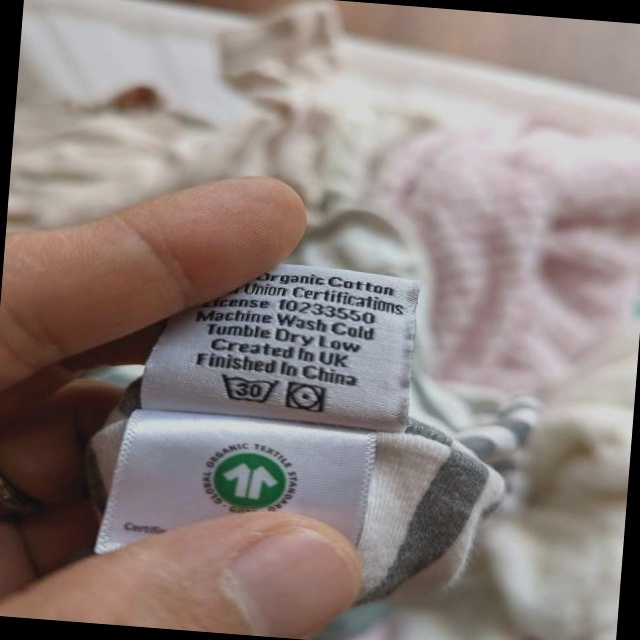30C: (214, 369, 282, 408)
tumble_dry_low: (283, 378, 329, 417)
